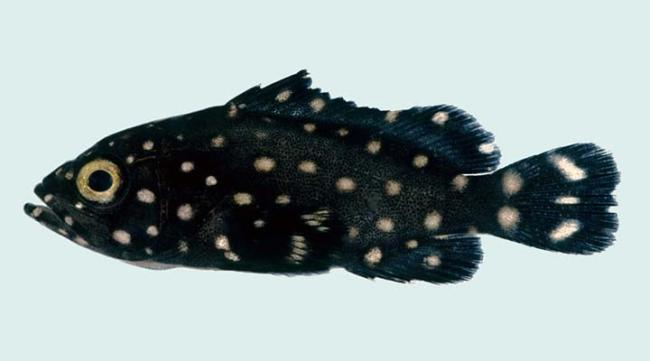fish: (24, 69, 621, 286)
